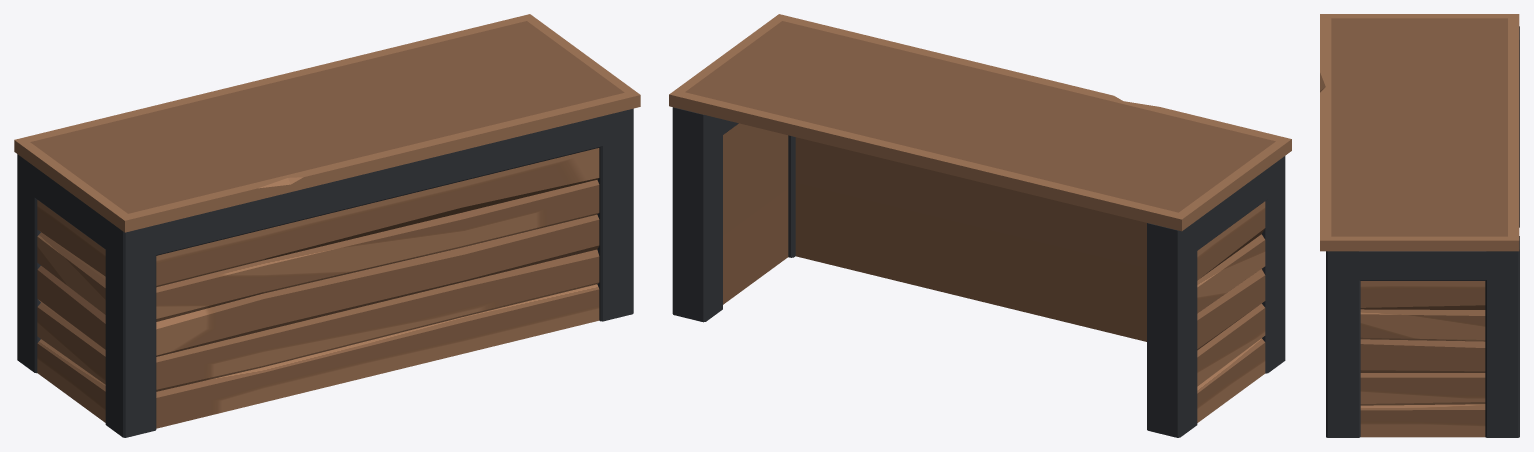
File: SM_Prop_Mall_Kiosk_Cafe_01.obj
The picture shows the model from 3 angles, left to right: view 1: azimuth 30°, elevation 25°; view 2: azimuth 150°, elevation 25°; view 3: azimuth 270°, elevation 25°; orthographic projection. The views are drawn at different scales.
Visible parts, largest first — view 1: SM_Prop_Mall_Kiosk_Cafe_01_0; view 2: SM_Prop_Mall_Kiosk_Cafe_01_0; view 3: SM_Prop_Mall_Kiosk_Cafe_01_0.
Boxes of the visible parts, left/top/right/bottom form: SM_Prop_Mall_Kiosk_Cafe_01_0: left=14, top=14, right=640, bottom=437; SM_Prop_Mall_Kiosk_Cafe_01_0: left=669, top=14, right=1291, bottom=437; SM_Prop_Mall_Kiosk_Cafe_01_0: left=1320, top=14, right=1519, bottom=437.
Size of the model in its own units: 2.24 by 0.9147 by 0.8341.
1 material, 1 textured.
